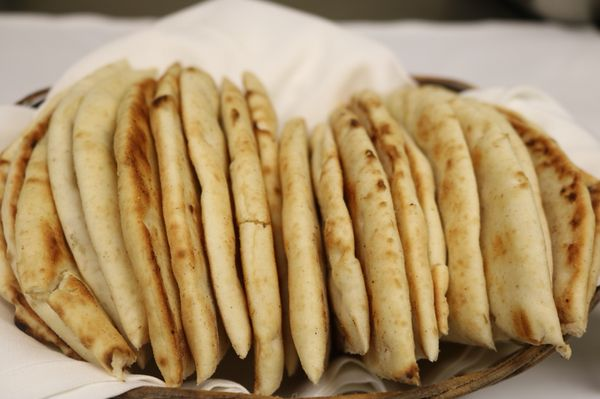burger: (328, 96, 430, 386), (277, 111, 336, 386)
